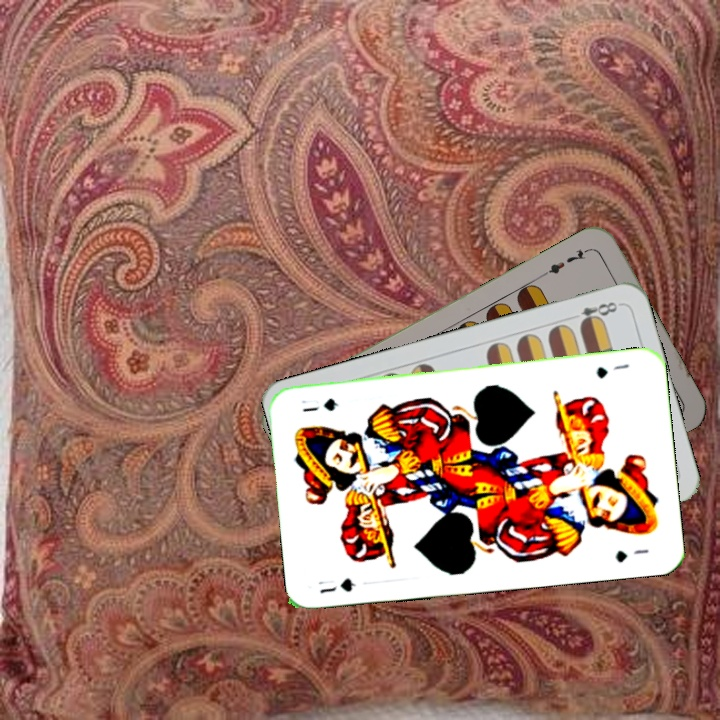E7: (538, 244, 592, 278)
E8: (565, 297, 623, 329)
GU: (314, 573, 359, 596), (592, 360, 632, 381)
